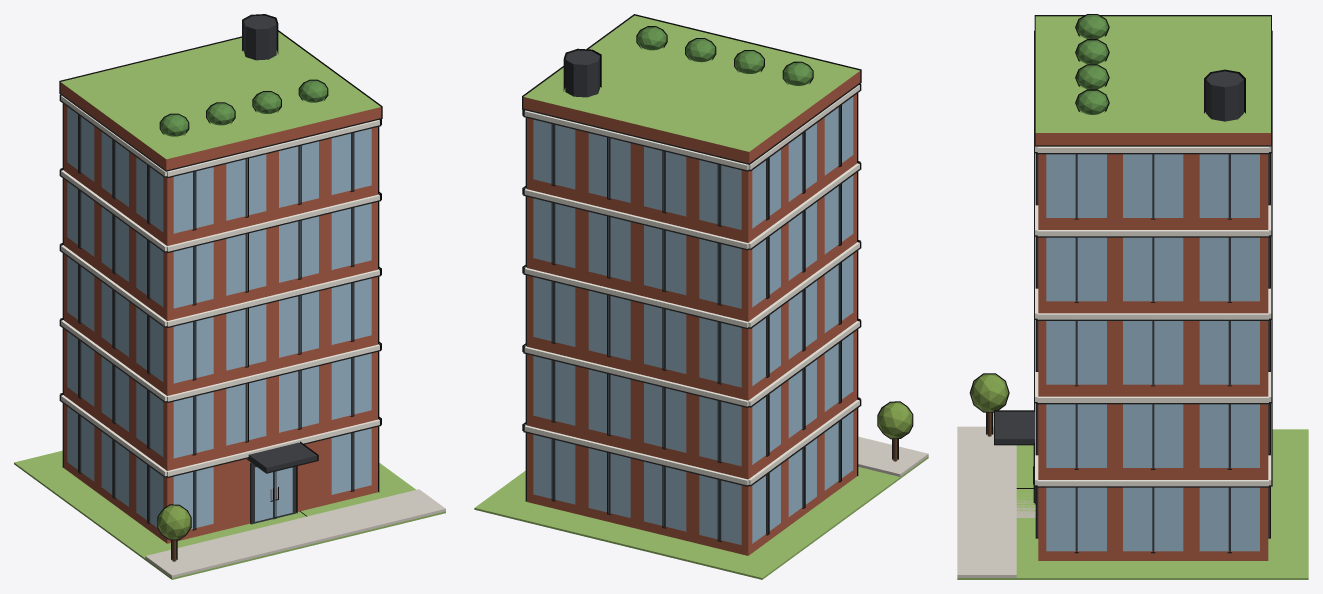
File: Buro_tugla_cam_3.fbx
3 renders of one model, left to right at view 1: azimuth 30°, elevation 25°; view 2: azimuth 150°, elevation 25°; view 3: azimuth 270°, elevation 25°, orthographic. The views are drawn at different scales.
Visible parts, largest first — view 1: Buro_tugla_cam_3; view 2: Buro_tugla_cam_3; view 3: Buro_tugla_cam_3.
Boxes of the visible parts, box(x1,y1,x2,y2) form: Buro_tugla_cam_3: box(14, 14, 445, 579); Buro_tugla_cam_3: box(474, 14, 928, 579); Buro_tugla_cam_3: box(957, 14, 1308, 579).
Bounding box in the file's own units: 13 × 19.1 × 13.
